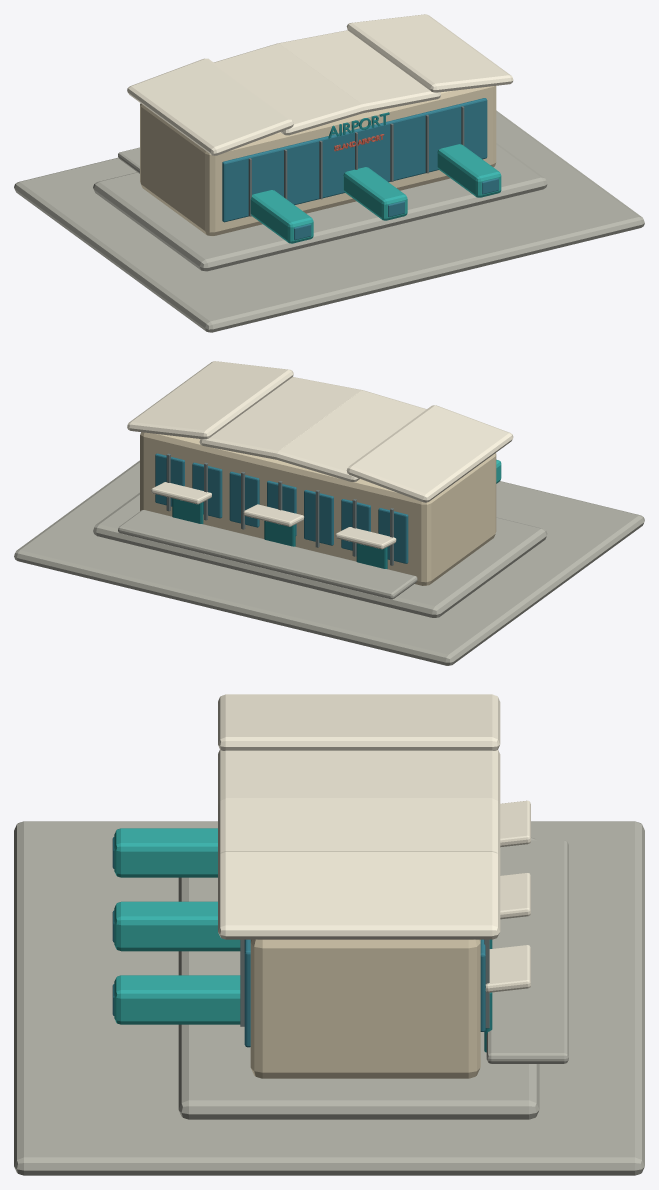
Rendered from airport-terminal-v2.glb.
3 views of the same model, one above another, from view 1: azimuth 30°, elevation 25°; view 2: azimuth 150°, elevation 25°; view 3: azimuth 270°, elevation 25° (orthographic). The views are drawn at different scales.
Visible parts, largest first — view 1: Ground, AIRPORT TERMINAL · Chalk, AIRPORT TERMINAL · Graphic glass, AIRPORT TERMINAL · Concrete, AIRPORT TERMINAL · Warm plaster, AIRPORT TERMINAL · Weathered teal, AIRPORT TERMINAL · Dark metal, AIRPORT TERMINAL · Deep teal; view 2: Ground, AIRPORT TERMINAL · Chalk, AIRPORT TERMINAL · Warm plaster, AIRPORT TERMINAL · Concrete, AIRPORT TERMINAL · Graphic glass, AIRPORT TERMINAL · Deep teal, AIRPORT TERMINAL · Dark metal; view 3: Ground, AIRPORT TERMINAL · Chalk, AIRPORT TERMINAL · Concrete, AIRPORT TERMINAL · Warm plaster, AIRPORT TERMINAL · Weathered teal, AIRPORT TERMINAL · Graphic glass, AIRPORT TERMINAL · Dark metal.
Part boxes in pixels (bbox=[...]): Ground: bbox=[14, 110, 644, 332]; AIRPORT TERMINAL · Chalk: bbox=[127, 14, 513, 155]; AIRPORT TERMINAL · Graphic glass: bbox=[222, 98, 498, 240]; AIRPORT TERMINAL · Concrete: bbox=[93, 143, 547, 271]; AIRPORT TERMINAL · Warm plaster: bbox=[140, 86, 496, 236]; AIRPORT TERMINAL · Weathered teal: bbox=[250, 144, 501, 243]; AIRPORT TERMINAL · Dark metal: bbox=[248, 106, 464, 216]; AIRPORT TERMINAL · Deep teal: bbox=[328, 112, 389, 138]; Ground: bbox=[14, 460, 644, 665]; AIRPORT TERMINAL · Chalk: bbox=[127, 361, 513, 549]; AIRPORT TERMINAL · Warm plaster: bbox=[140, 432, 496, 585]; AIRPORT TERMINAL · Concrete: bbox=[93, 492, 547, 617]; AIRPORT TERMINAL · Graphic glass: bbox=[155, 453, 408, 563]; AIRPORT TERMINAL · Deep teal: bbox=[172, 498, 387, 568]; AIRPORT TERMINAL · Dark metal: bbox=[166, 453, 393, 565]; Ground: bbox=[14, 821, 644, 1175]; AIRPORT TERMINAL · Chalk: bbox=[218, 694, 530, 992]; AIRPORT TERMINAL · Concrete: bbox=[178, 837, 568, 1119]; AIRPORT TERMINAL · Warm plaster: bbox=[250, 939, 480, 1078]; AIRPORT TERMINAL · Weathered teal: bbox=[114, 828, 240, 1024]; AIRPORT TERMINAL · Graphic glass: bbox=[112, 837, 485, 1047]; AIRPORT TERMINAL · Dark metal: bbox=[240, 939, 489, 1028].
Bounding box in the file's own units: 12.4 × 3.58 × 9.61.
1 material, 1 textured.
